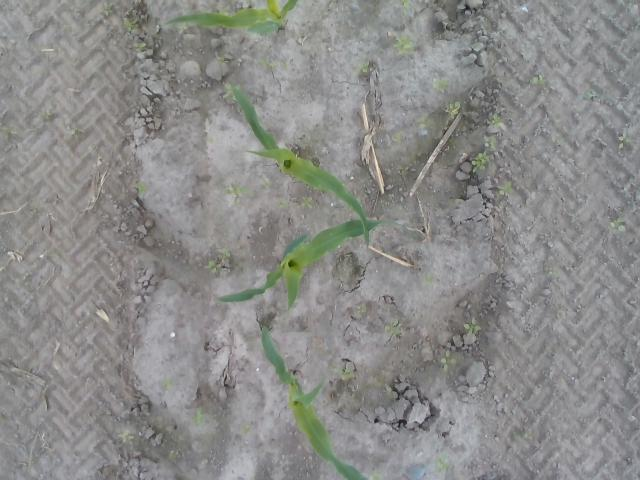Maize: (230, 86, 370, 248), (262, 323, 368, 480), (214, 218, 384, 312), (158, 0, 298, 43)
Weeds: (224, 184, 252, 206), (208, 246, 230, 272), (393, 34, 416, 54), (414, 112, 434, 132), (438, 349, 456, 369), (463, 316, 481, 334), (471, 150, 488, 168), (608, 216, 626, 232), (444, 100, 460, 118), (434, 452, 448, 472), (482, 134, 498, 150), (616, 132, 631, 149), (223, 82, 237, 100), (384, 323, 402, 337), (486, 112, 503, 126), (192, 407, 205, 425), (116, 430, 132, 444), (532, 72, 546, 87), (497, 180, 512, 194), (336, 366, 352, 379), (300, 196, 313, 210), (358, 61, 371, 74), (355, 302, 368, 314), (123, 18, 135, 30), (132, 41, 146, 51), (436, 80, 450, 90), (400, 0, 411, 8), (137, 184, 145, 194)
